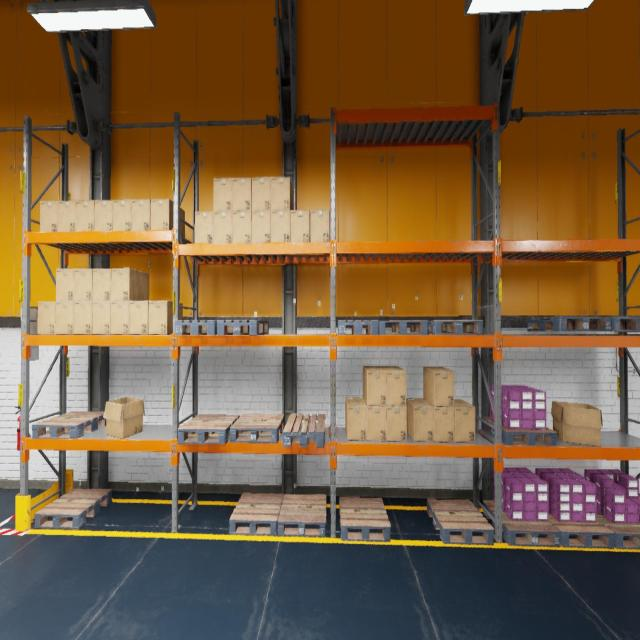box: (552, 401, 602, 446), (103, 396, 145, 438), (150, 198, 184, 238), (424, 398, 454, 442), (406, 398, 434, 442), (111, 268, 149, 300), (148, 300, 183, 334), (424, 367, 454, 406), (363, 398, 387, 441), (381, 366, 406, 406), (454, 399, 476, 442), (345, 398, 367, 440), (363, 366, 386, 406), (271, 177, 294, 210), (387, 406, 407, 441), (290, 210, 310, 242), (232, 178, 252, 210), (232, 211, 252, 243), (92, 301, 111, 334), (310, 209, 329, 242), (213, 178, 232, 211), (130, 300, 148, 334), (92, 268, 111, 300), (271, 210, 290, 242), (213, 211, 232, 243), (111, 301, 129, 334), (74, 301, 92, 334), (38, 301, 56, 334), (74, 268, 92, 301), (56, 268, 74, 301), (252, 177, 270, 210), (56, 302, 74, 334), (113, 199, 131, 231), (252, 210, 270, 242), (195, 211, 213, 243), (94, 200, 113, 230), (132, 199, 150, 230), (76, 200, 94, 231), (58, 200, 76, 231), (40, 200, 58, 231)
pallets: (483, 500, 560, 547), (34, 488, 112, 529), (427, 499, 494, 545), (229, 492, 284, 536), (339, 496, 391, 542), (549, 513, 614, 548), (481, 417, 557, 445), (32, 411, 106, 439), (278, 494, 326, 537), (178, 414, 239, 444), (596, 512, 640, 550), (230, 413, 284, 442), (527, 316, 611, 332), (283, 414, 325, 446), (428, 320, 483, 335), (216, 320, 268, 335), (594, 316, 640, 332), (379, 320, 428, 335), (338, 320, 379, 335), (175, 320, 216, 335)
